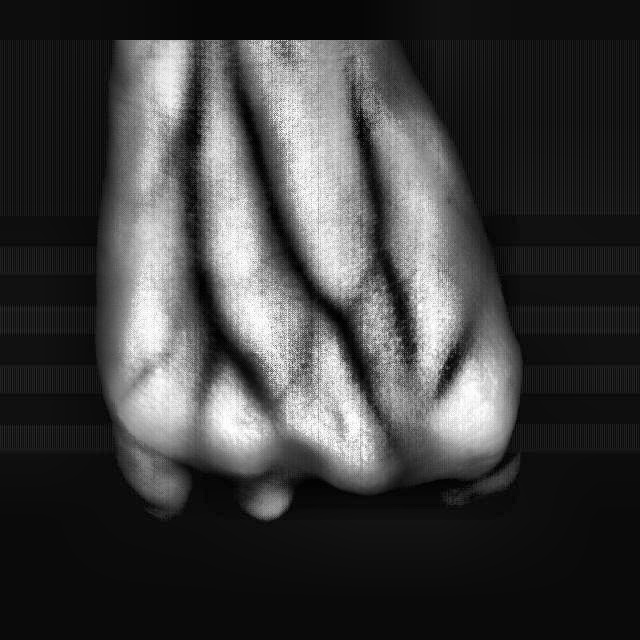Vein: (228, 107, 339, 318), (336, 76, 401, 273), (180, 103, 218, 301)
